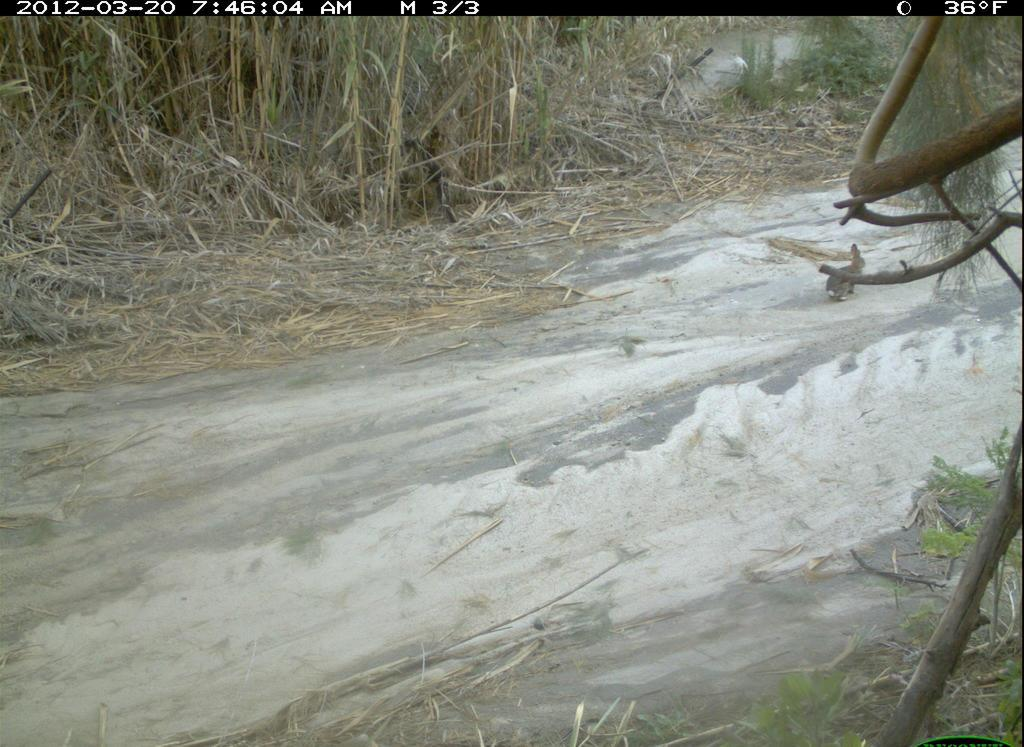rabbit: (821, 240, 881, 305)
